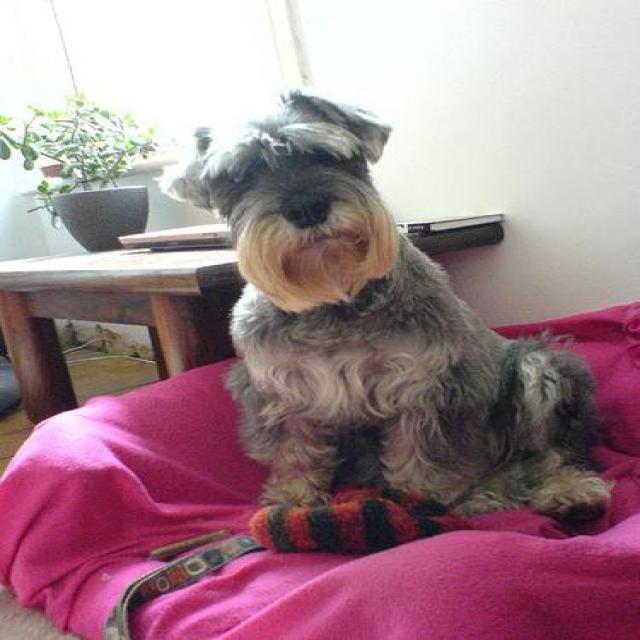standard_schnauzer: (153, 86, 618, 534)
